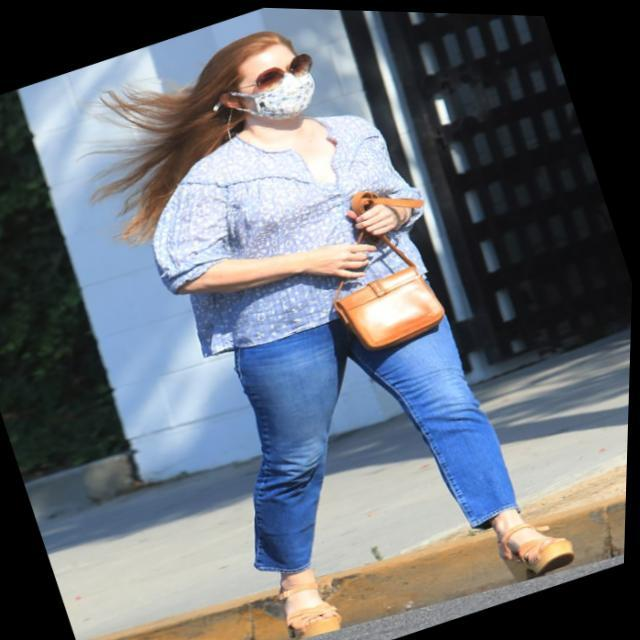Nonhelmet: (205, 29, 317, 137)
